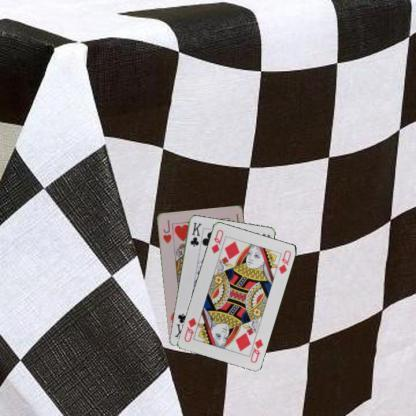Jh: (160, 218, 172, 245)
Kc: (187, 220, 203, 247)
Qd: (246, 333, 264, 364), (208, 228, 224, 255)
